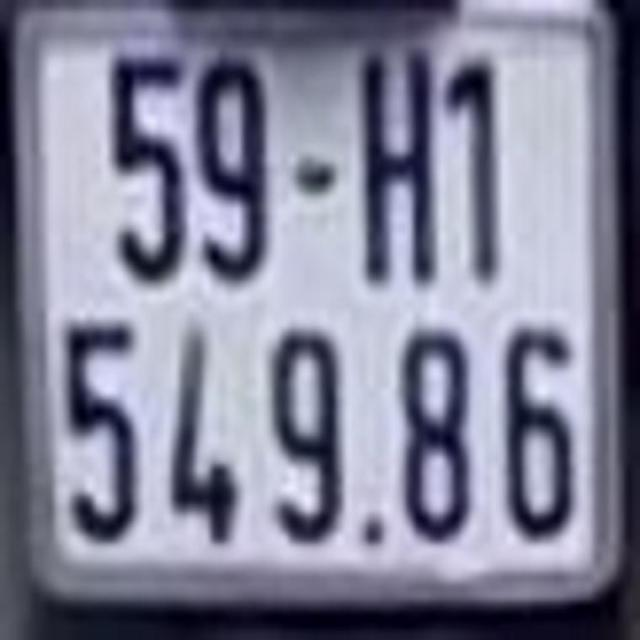1: (441, 56, 515, 282)
4: (161, 324, 238, 548)
5: (106, 52, 188, 284), (62, 322, 141, 544)
6: (499, 308, 584, 543)
8: (392, 312, 476, 546)
9: (266, 317, 345, 546), (192, 49, 269, 282)
H: (353, 43, 442, 288)
